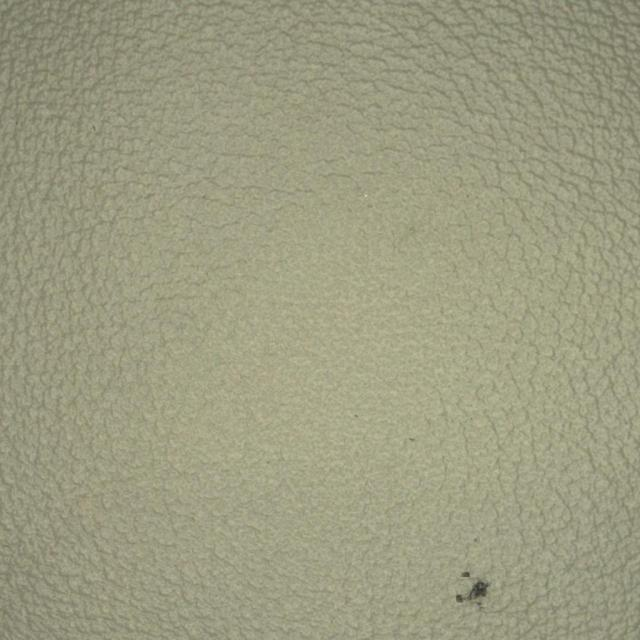Hole: (388, 490, 562, 631)
